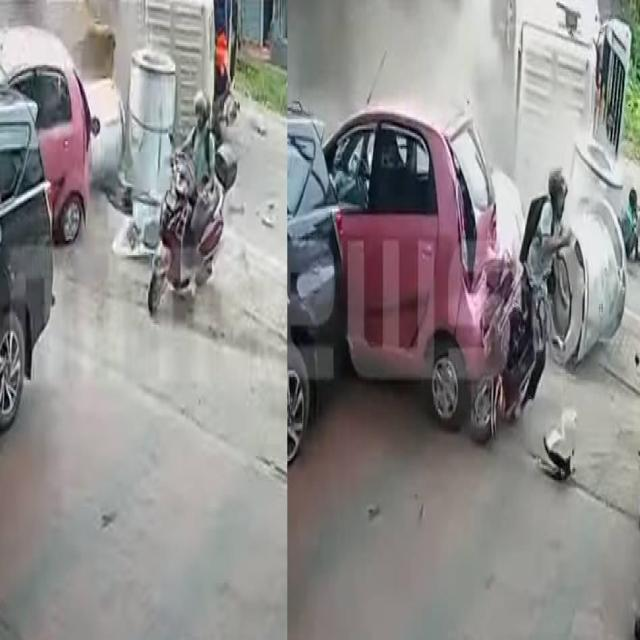accident: (325, 112, 504, 424)
motorcycle: (148, 91, 224, 313)
